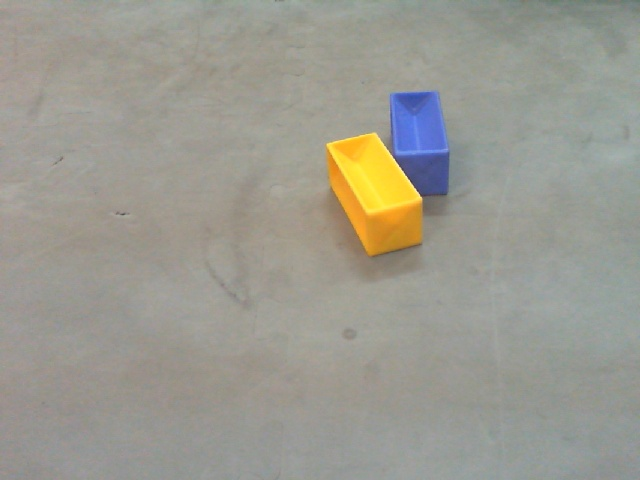BlueSample: (389, 85, 454, 197)
YellowSample: (323, 130, 425, 276)
